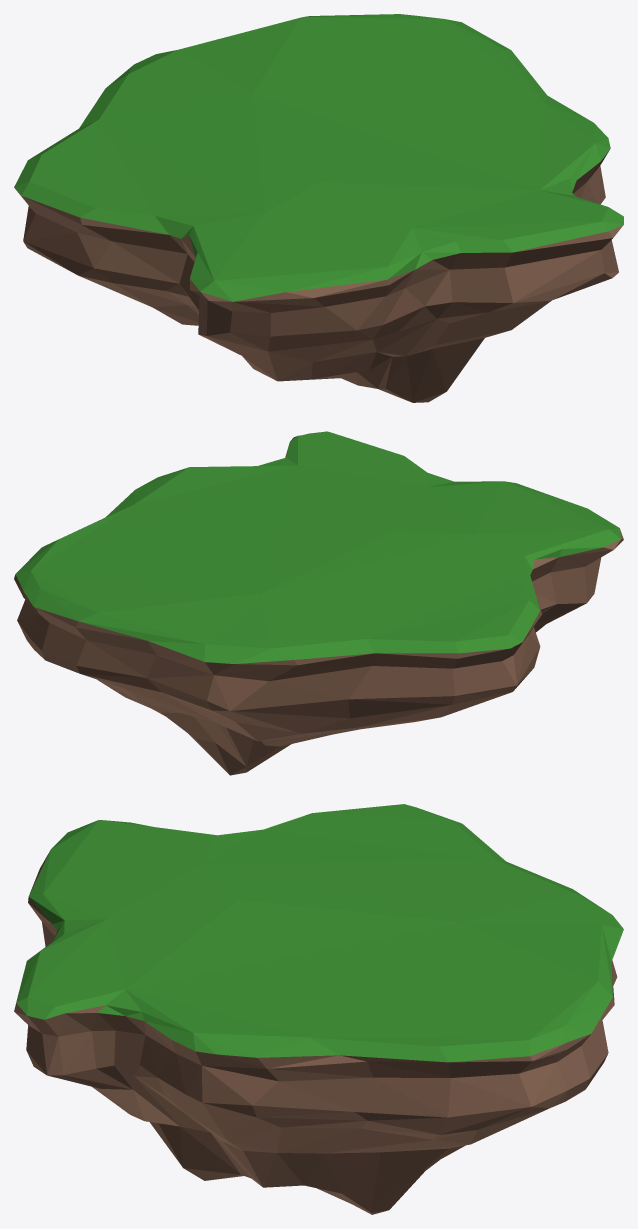
File: island4.fbx
3 views of the same model, one above another, from view 1: azimuth 30°, elevation 25°; view 2: azimuth 150°, elevation 25°; view 3: azimuth 270°, elevation 25° (orthographic). The views are drawn at different scales.
Parts seen in each view (by area): view 1: Plane.001; view 2: Plane.001; view 3: Plane.001.
Part boxes in pixels (left/top/right/bottom): Plane.001: left=14, top=14, right=623, bottom=402; Plane.001: left=14, top=431, right=623, bottom=775; Plane.001: left=14, top=804, right=623, bottom=1214.
Size of the model in its own units: 4921 by 2310 by 4939.
